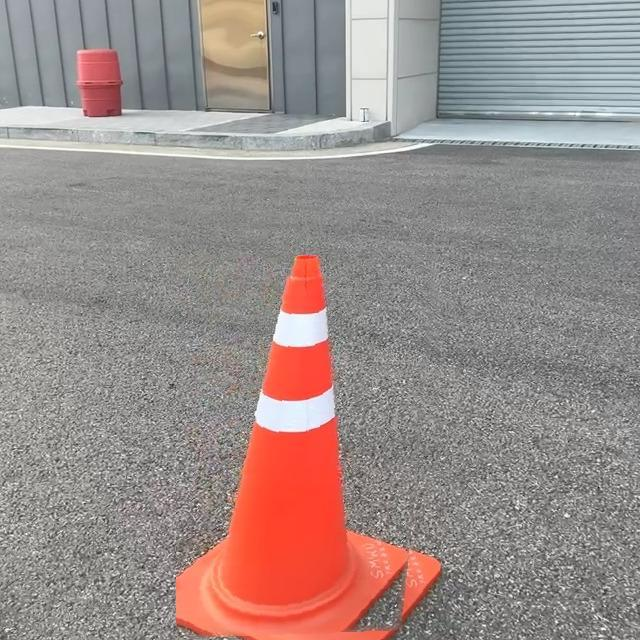fallen_object: (130, 180, 536, 640)
